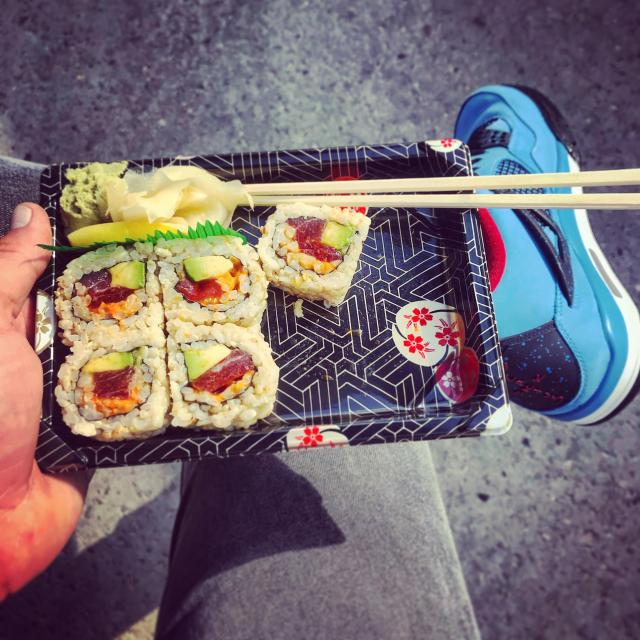shoe: (451, 82, 640, 430)
